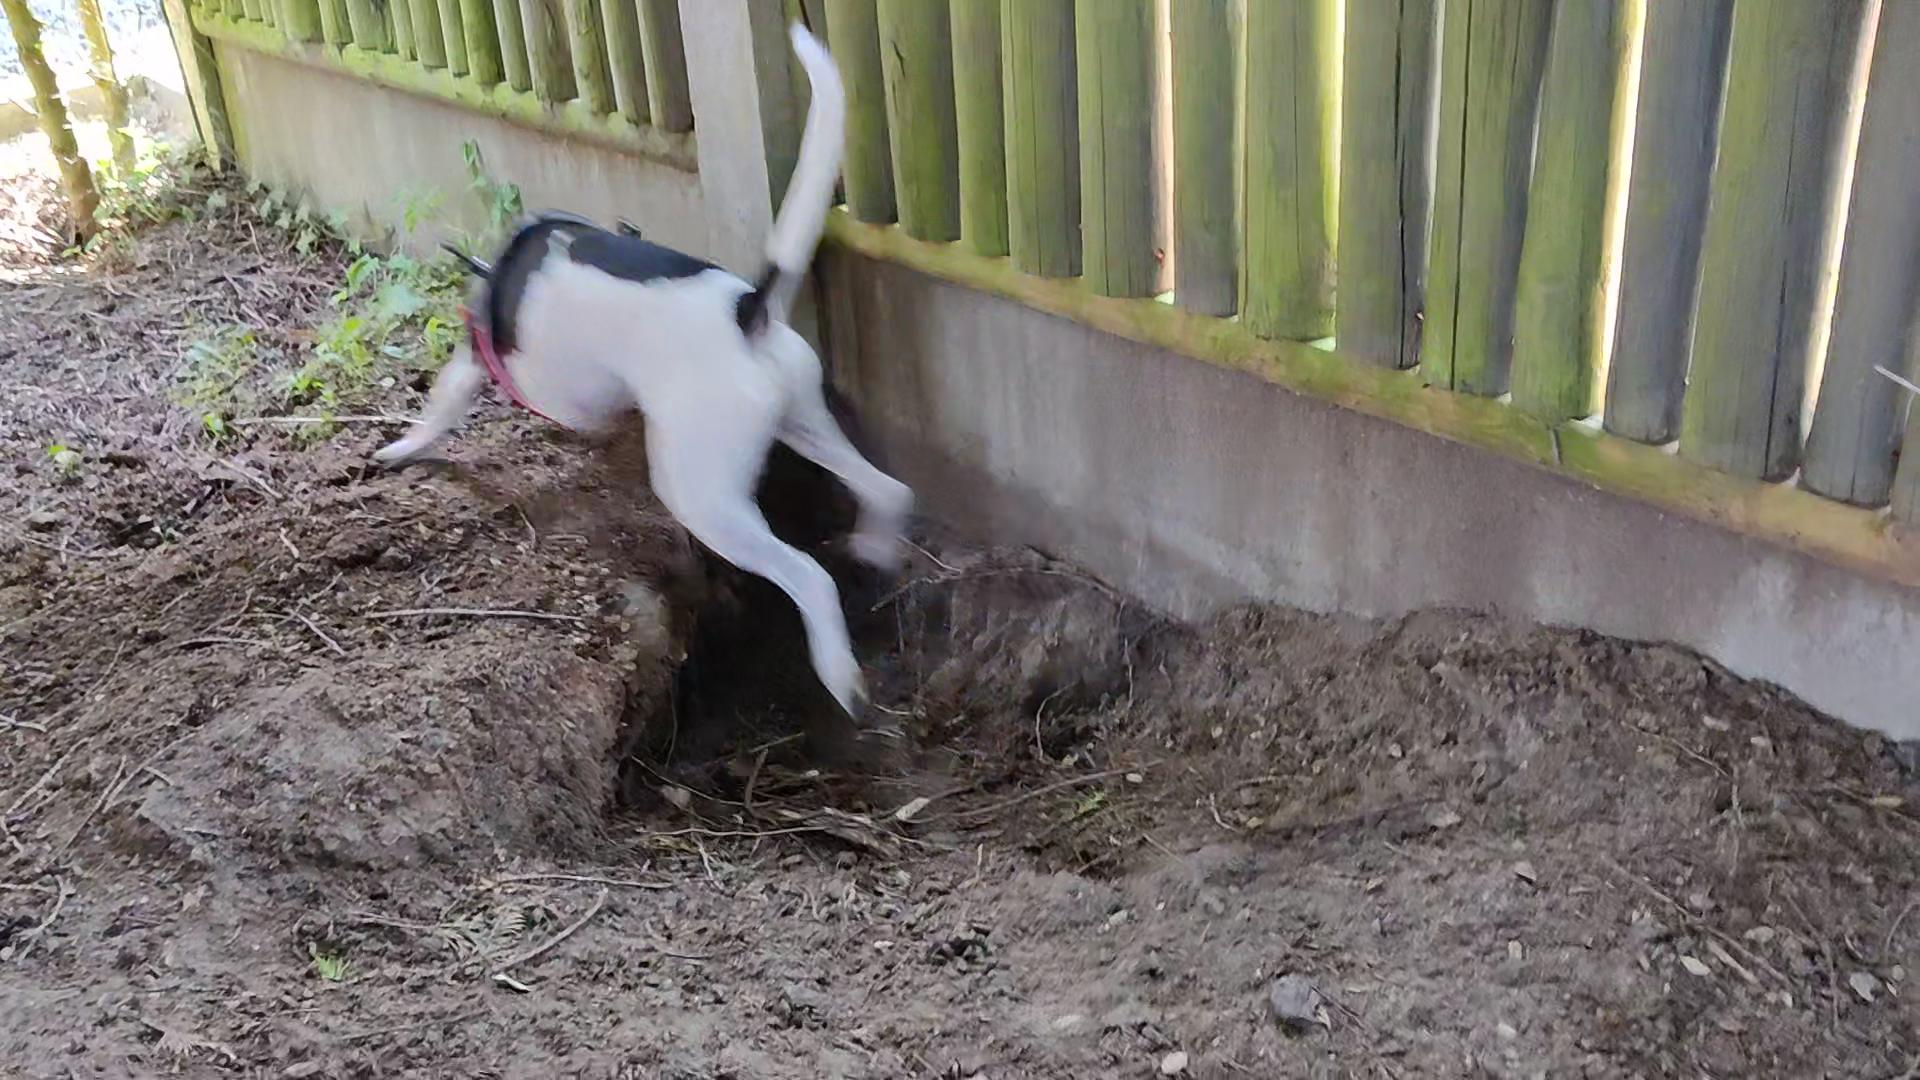Dog: (351, 11, 977, 727)
